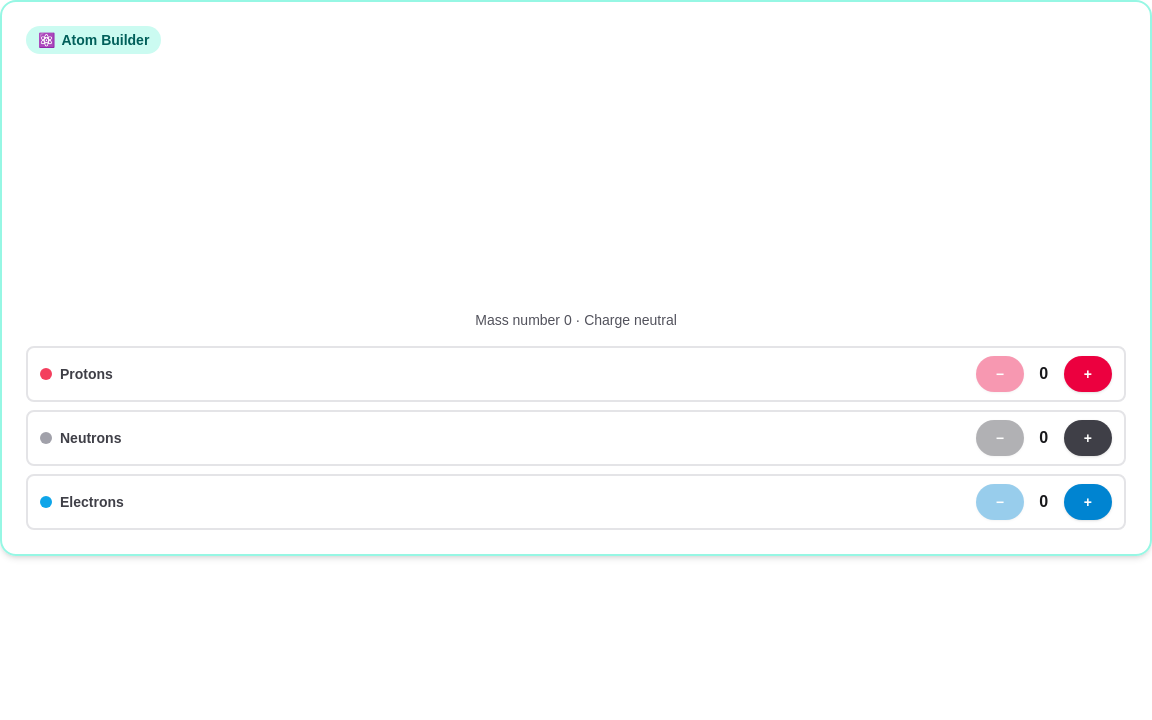
AtomBuilder › clicking + on electrons immediately updates the count and the visual model
This screenshot has width=1152, height=720.
Step 1. Click the button named "Add electrons" → {"x": 1088, "y": 502}, box left=1064, top=484, right=1112, bottom=520
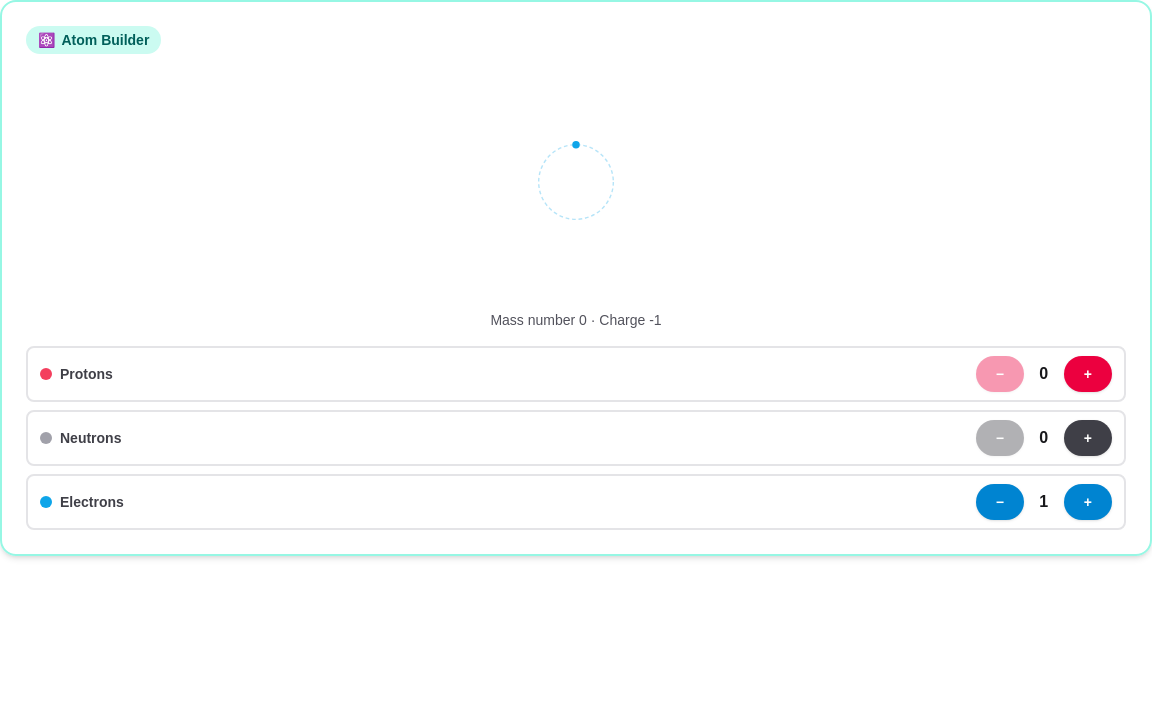
Check: the text with test id "electrons-count" reads "1", box left=1039, top=493, right=1048, bottom=510
Check: the text "Mass number 0 · Charge -1" is shown, box left=490, top=312, right=662, bottom=328
